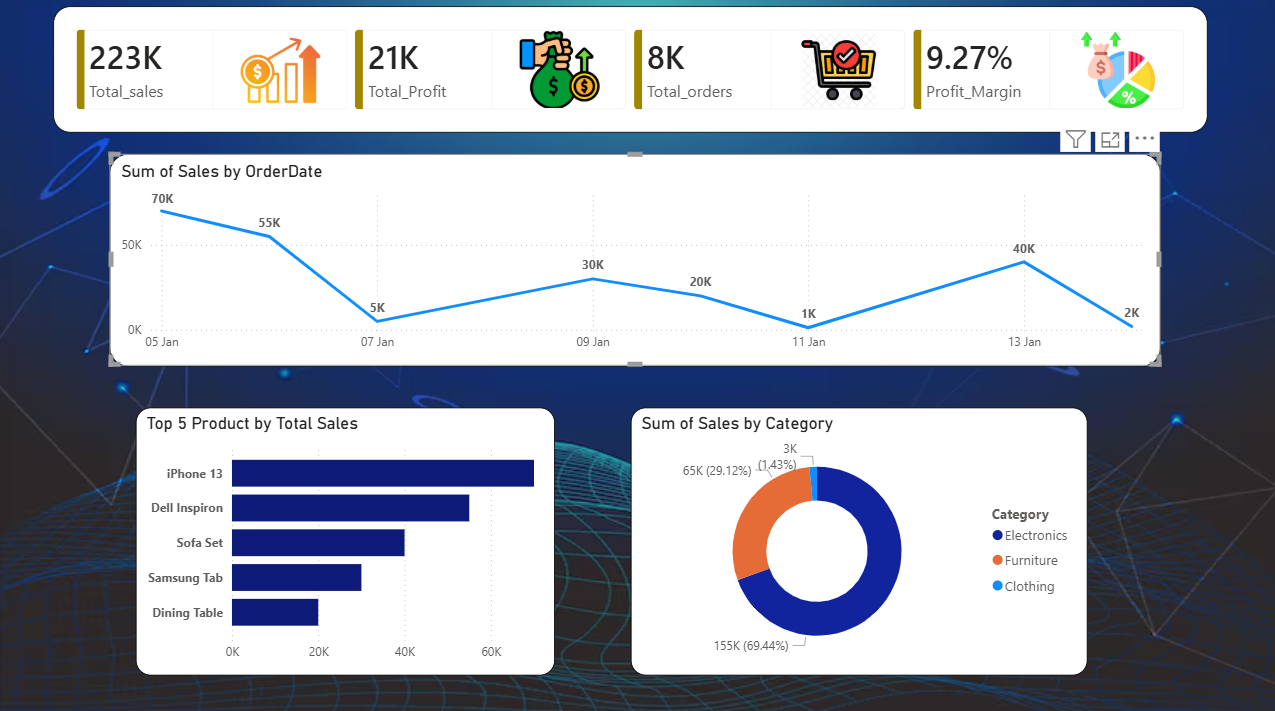

The dashboard page shown, as its layout file describes it:
{"tool":"powerbi","page":{"name":"Executive Summary","canvas":[1280,720],"ordinal":0},"visuals":[{"type":"cardVisual","fields":{"Data":["Table.Total_sales","Table.Total_Profit","Table.Total_orders","Table.Profit_Margin"]},"box":[56.3,11,1154,126.2],"z":0},{"type":"lineChart","fields":{"Category":["Table.OrderDate"],"Y":["Sum(Table.Sales)"]},"box":[113.1,158.3,1051.2,213.1],"z":1000},{"type":"donutChart","fields":{"Category":["Table.Category"],"Y":["Sum(Table.Sales)"]},"box":[633.3,413.1,457.1,267.9],"z":2000},{"type":"clusteredBarChart","title":"Top 5 Product by Total Sales","fields":{"Category":["Table.ProductName"],"Y":["Table.Total_sales"]},"box":[139.3,413.1,419,267.9],"z":3000}]}

Visuals, with their boxes in screenshot pixels (x1, y1, x2, y2), scaled from the page's 1280x720 canvas onto the 1275x711 screenshot:
cardVisual - Table.Total_sales x Table.Total_Profit: [56,11,1206,135]
lineChart - Table.OrderDate x Sum(Table.Sales): [113,156,1160,367]
donutChart - Table.Category x Sum(Table.Sales): [631,408,1086,672]
"Top 5 Product by Total Sales" clusteredBarChart: [139,408,556,672]
